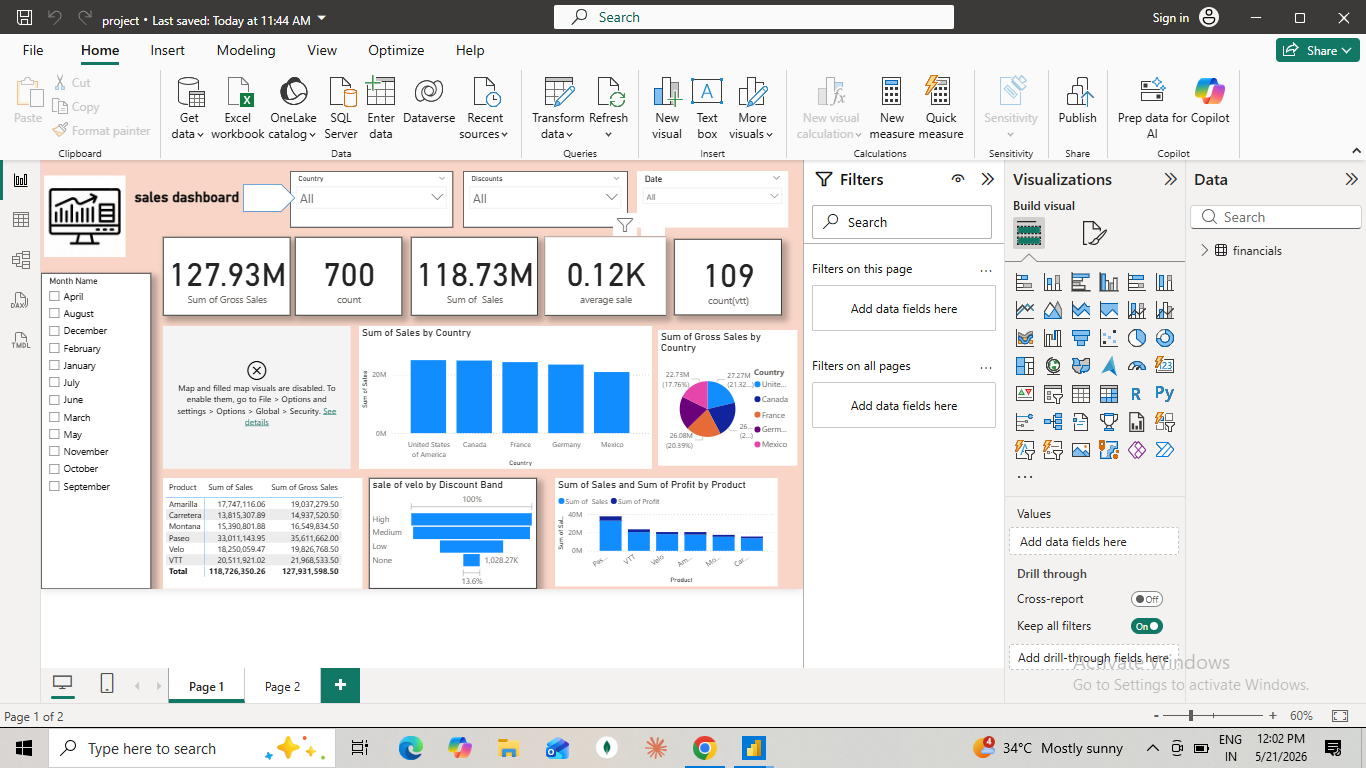

The dashboard page shown, as its layout file describes it:
{"tool":"powerbi","page":{"name":"Page 1","canvas":[1280,720],"ordinal":0},"visuals":[{"type":"card","fields":{"Values":["Sum(financials.Gross Sales)"]},"box":[204.3,128.9,213.9,131.6],"z":0},{"type":"funnel","fields":{"Y":["financials.sale of velo"],"Category":["financials.Discount Band"]},"box":[551.2,533.3,282.4,186.5],"z":1000},{"type":"card","fields":{"Values":["financials.count"]},"box":[426.4,128.9,179.6,131.6],"z":2000},{"type":"card","fields":{"Values":["financials.count(vtt)"]},"box":[1063.9,133,181,127.5],"z":3000},{"type":"textbox","box":[135.7,43.9,218,85],"z":4000},{"type":"slicer","fields":{"Values":["financials.Country"]},"box":[418.2,17.8,274.2,94.6],"z":5000},{"type":"slicer","fields":{"Values":["financials.Discounts"]},"box":[708.8,17.8,277,94.6],"z":6000},{"type":"image","box":[0,0,146.7,189.2],"z":8000},{"type":"card","fields":{"Values":["Sum(financials. Sales)"]},"box":[621.1,128.9,212.5,131.6],"z":9000},{"type":"card","fields":{"Values":["financials.average sale"]},"box":[847.3,128.9,202.9,131.6],"z":10000},{"type":"slicer","fields":{"Values":["financials.Month Name"]},"box":[0,189.2,185.1,530.6],"z":11000},{"type":"map","fields":{"Category":["financials.Country"]},"box":[204.3,278.3,315.3,239.9],"z":12000},{"type":"pivotTable","fields":{"Rows":["financials.Product"],"Values":["Sum(financials. Sales)","Sum(financials.Gross Sales)"]},"box":[204.3,533.3,334.5,186.5],"z":13000},{"type":"slicer","fields":{"Values":["financials.Date"]},"box":[1000.9,17.8,253.6,94.6],"z":14000},{"type":"lineStackedColumnComboChart","fields":{"Category":["financials.Country"],"Y":["Sum(financials. Sales)"]},"box":[533.3,278.3,492.2,239.9],"z":15000},{"type":"lineStackedColumnComboChart","fields":{"Category":["financials.Product"],"Y":["Sum(financials. Sales)","Sum(financials.Profit)"]},"box":[863.8,533.3,374.3,182.3],"z":16000},{"type":"pieChart","fields":{"Category":["financials.Country"],"Y":["Sum(financials.Gross Sales)"]},"box":[1036.5,285.2,234.4,227.6],"z":17000},{"type":"shape","box":[338.6,39.8,87.7,46.6],"z":18000}]}

Visuals, with their boxes on the page's 1280x720 design canvas (x1, y1, x2, y2). These are canvas units, not pixel positions in the 1366x768 screenshot, which may show the page scaled, cropped or inside an application window:
card - Sum(financials.Gross Sales): {"left": 204, "top": 129, "right": 418, "bottom": 260}
funnel - financials.sale of velo x financials.Discount Band: {"left": 551, "top": 533, "right": 834, "bottom": 720}
card - financials.count: {"left": 426, "top": 129, "right": 606, "bottom": 260}
card - financials.count(vtt): {"left": 1064, "top": 133, "right": 1245, "bottom": 260}
textbox: {"left": 136, "top": 44, "right": 354, "bottom": 129}
slicer - financials.Country: {"left": 418, "top": 18, "right": 692, "bottom": 112}
slicer - financials.Discounts: {"left": 709, "top": 18, "right": 986, "bottom": 112}
image: {"left": 0, "top": 0, "right": 147, "bottom": 189}
card - Sum(financials. Sales): {"left": 621, "top": 129, "right": 834, "bottom": 260}
card - financials.average sale: {"left": 847, "top": 129, "right": 1050, "bottom": 260}
slicer - financials.Month Name: {"left": 0, "top": 189, "right": 185, "bottom": 720}
map - financials.Country: {"left": 204, "top": 278, "right": 520, "bottom": 518}
pivotTable - financials.Product x Sum(financials. Sales): {"left": 204, "top": 533, "right": 539, "bottom": 720}
slicer - financials.Date: {"left": 1001, "top": 18, "right": 1254, "bottom": 112}
lineStackedColumnComboChart - financials.Country x Sum(financials. Sales): {"left": 533, "top": 278, "right": 1026, "bottom": 518}
lineStackedColumnComboChart - financials.Product x Sum(financials. Sales): {"left": 864, "top": 533, "right": 1238, "bottom": 716}
pieChart - financials.Country x Sum(financials.Gross Sales): {"left": 1036, "top": 285, "right": 1271, "bottom": 513}
shape: {"left": 339, "top": 40, "right": 426, "bottom": 86}
